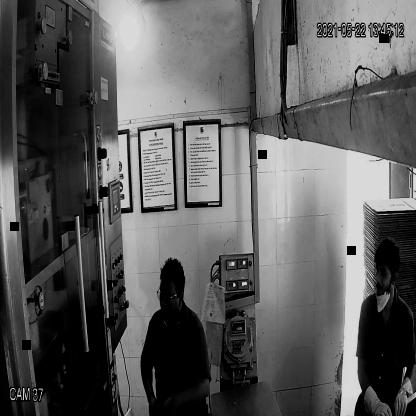goggles: (155, 286, 182, 304)
no_goggles: (374, 265, 397, 281)
